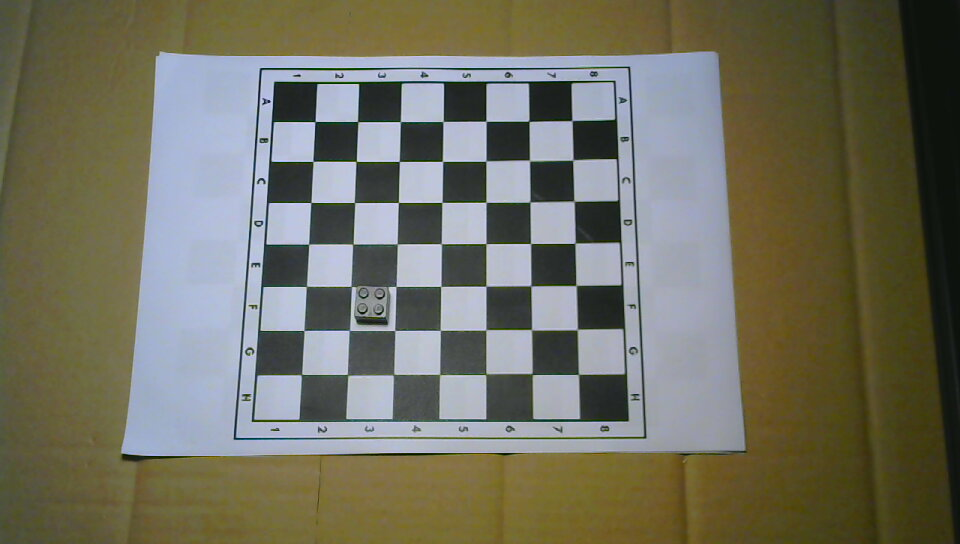bp: (353, 283, 390, 325)
